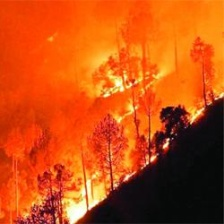fire: (23, 48, 218, 224)
